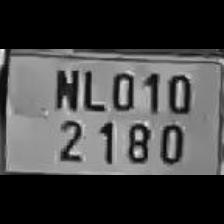0: (160, 68, 194, 114), (154, 118, 186, 166), (105, 66, 137, 112)
1: (88, 116, 120, 164), (136, 68, 162, 114)
2: (52, 114, 86, 164)
8: (122, 118, 153, 164)
L: (78, 64, 104, 112)
N: (50, 63, 80, 111)
